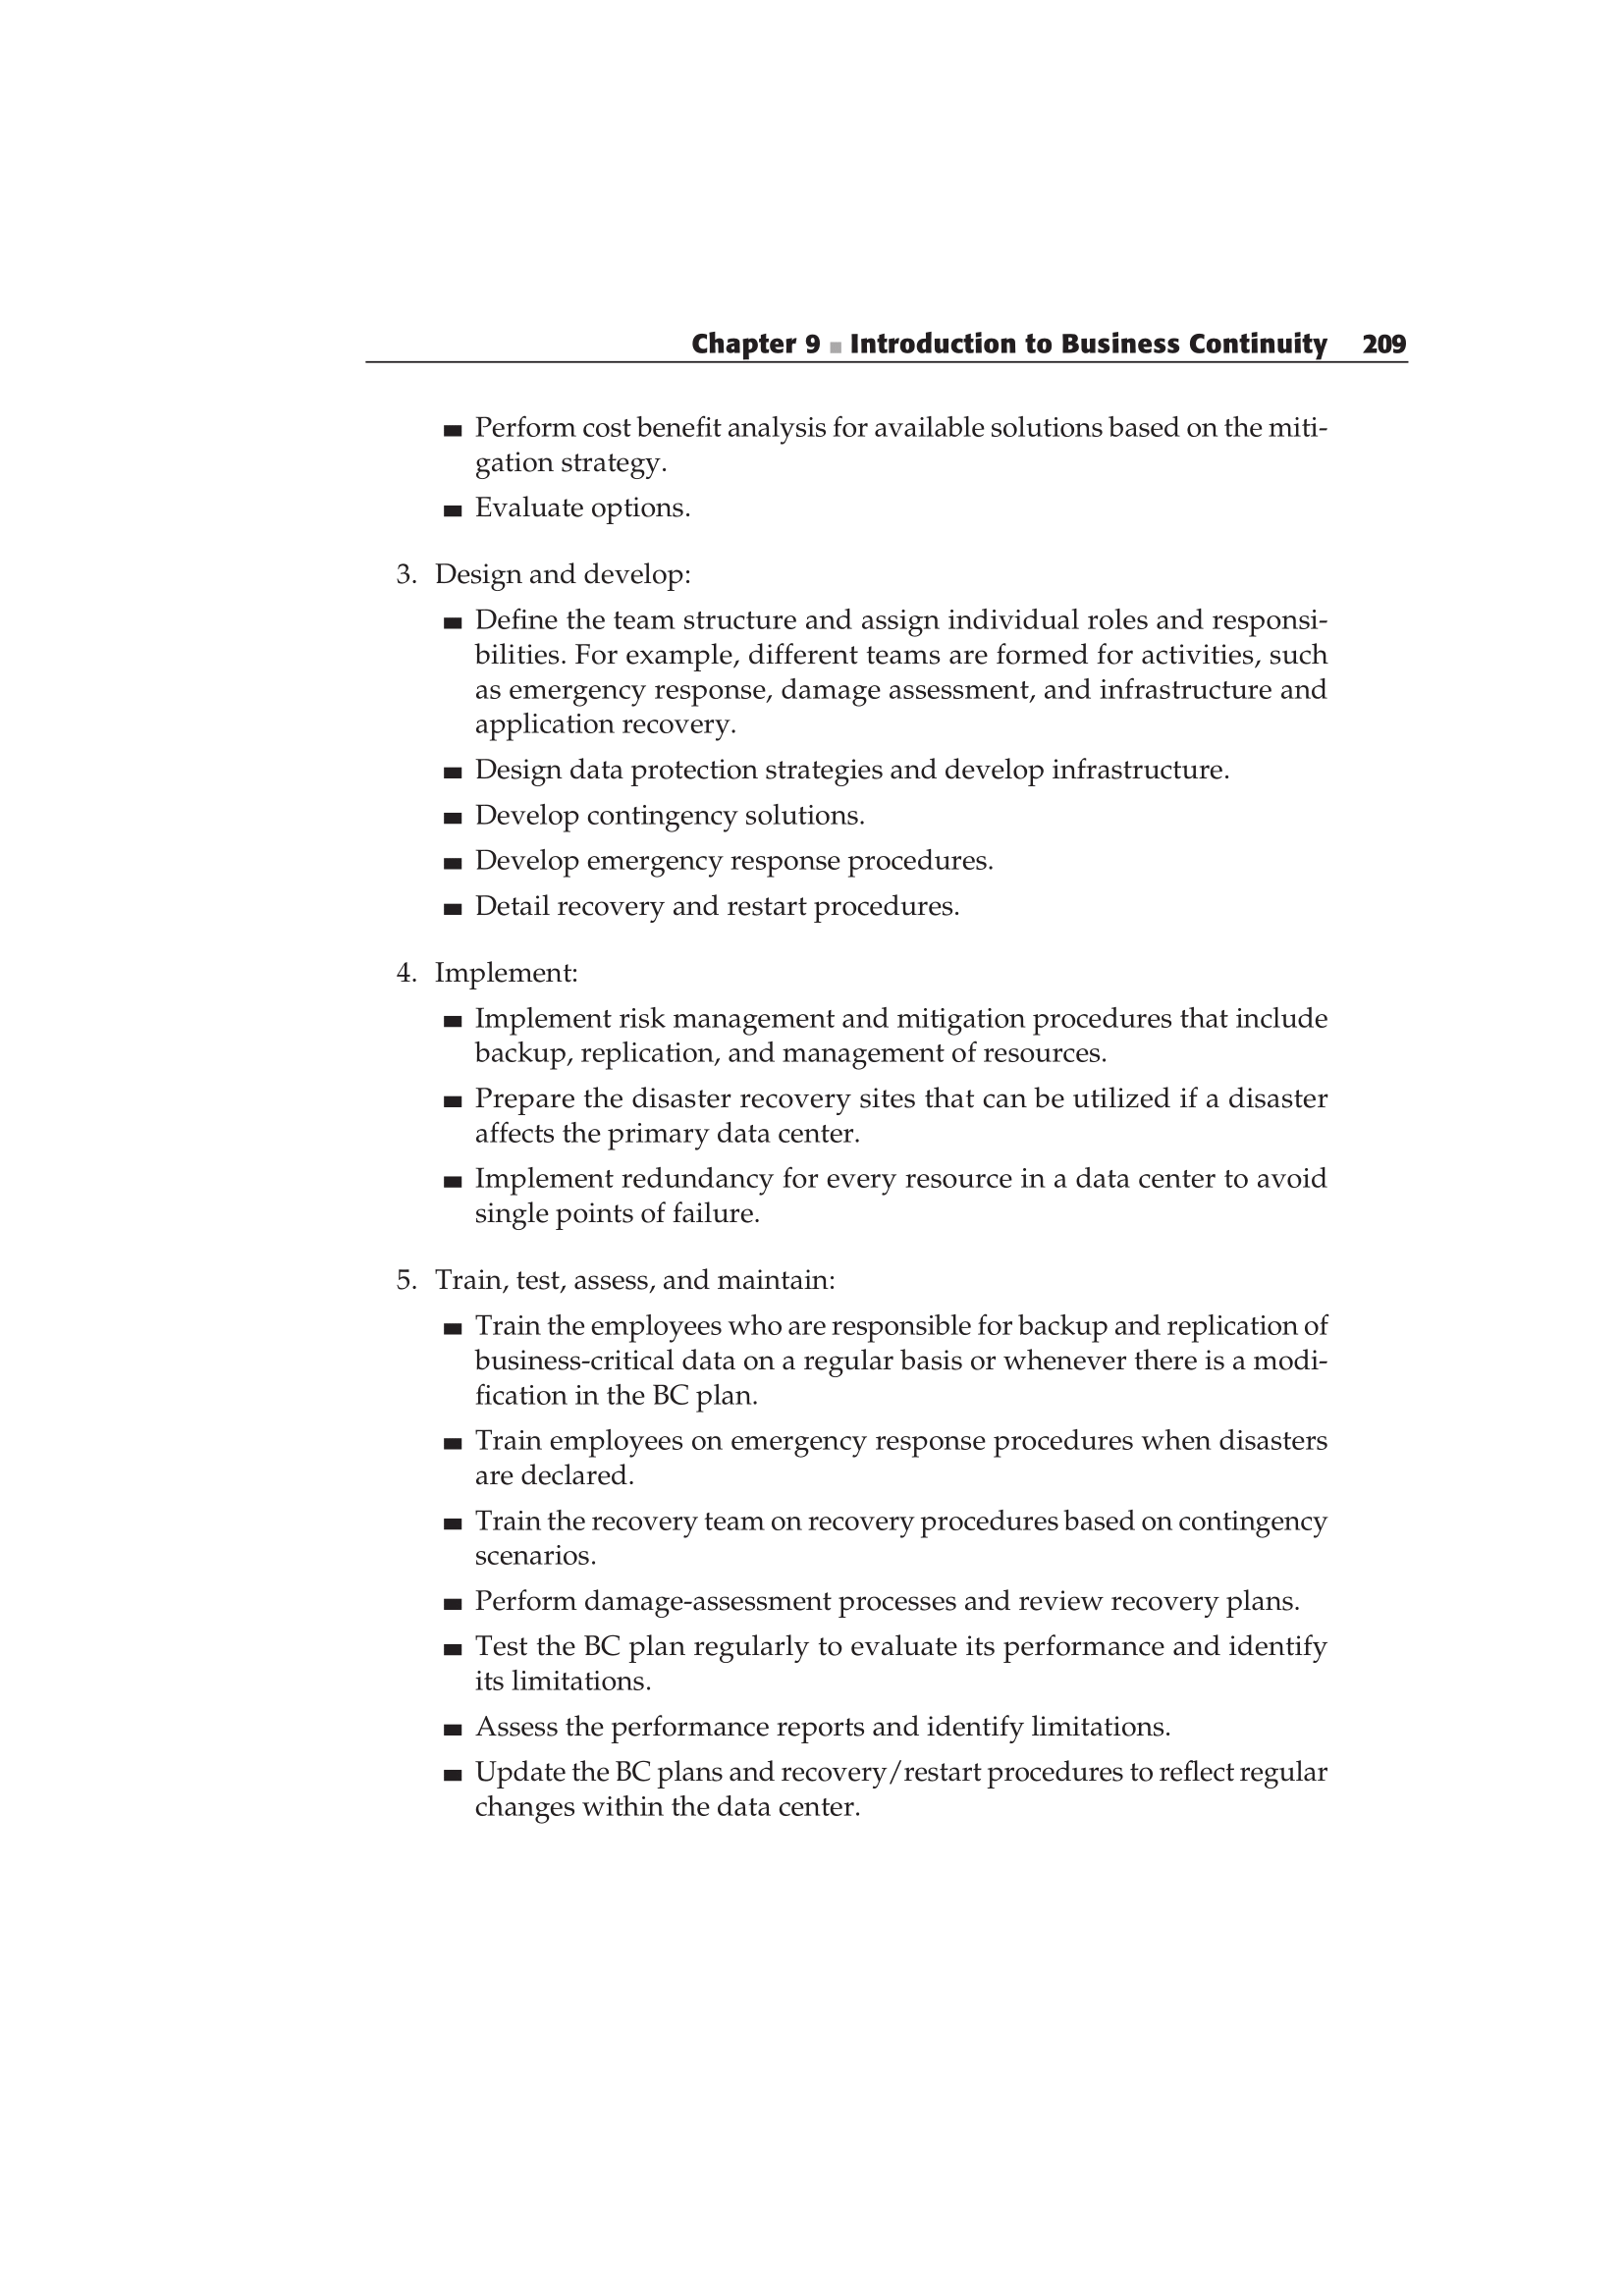Paragraph: (323, 1257, 1354, 1864), (335, 553, 1416, 934), (318, 930, 1437, 1248), (348, 390, 1409, 490), (604, 260, 1425, 381), (348, 490, 871, 537)
